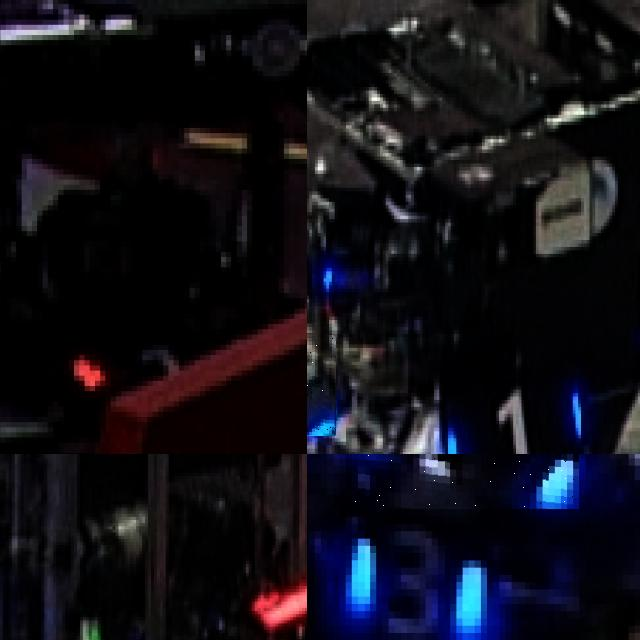B1: (436, 366, 592, 454), (307, 321, 336, 436)
B3: (339, 516, 486, 640), (351, 454, 579, 509)
